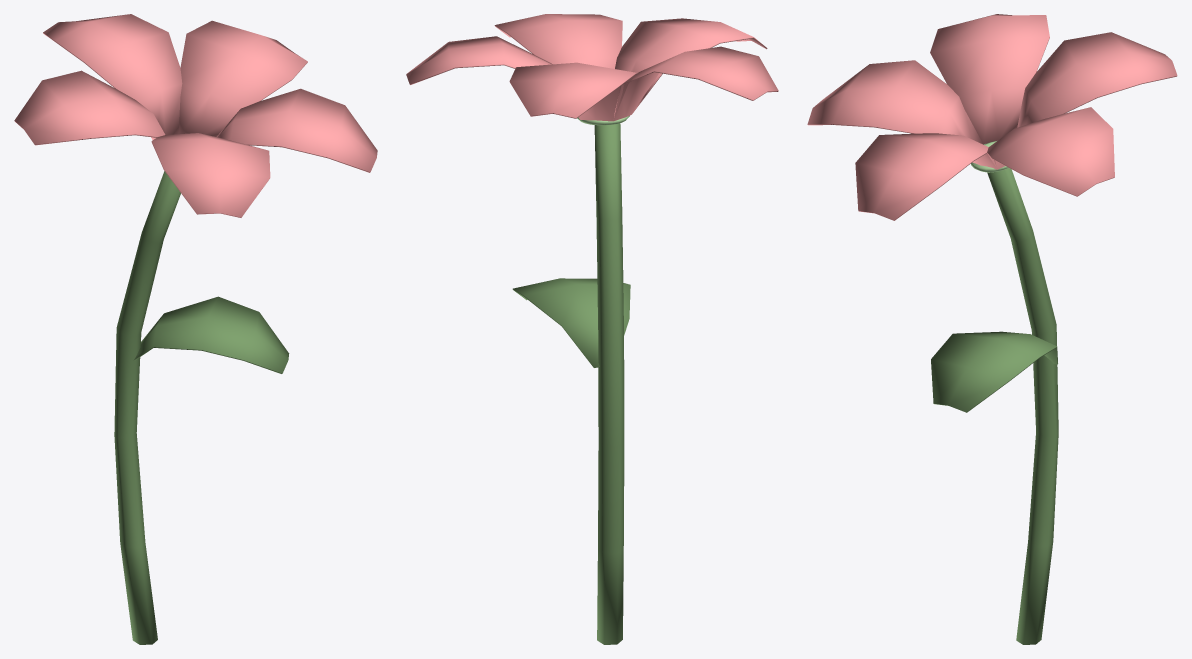
The model's file is big_fragaria_flower1.fbx.
The picture shows the model from 3 angles, left to right: view 1: azimuth 30°, elevation 25°; view 2: azimuth 150°, elevation 25°; view 3: azimuth 270°, elevation 25°; orthographic projection. The views are drawn at different scales.
Visible parts, largest first — view 1: Big fragaria flower 1; view 2: Big fragaria flower 1; view 3: Big fragaria flower 1.
Part boxes in pixels (left/top/right/bottom): Big fragaria flower 1: left=14, top=14, right=377, bottom=644; Big fragaria flower 1: left=406, top=14, right=778, bottom=644; Big fragaria flower 1: left=807, top=14, right=1177, bottom=644.
Bounding box in the file's own units: 280 × 502 × 287.
